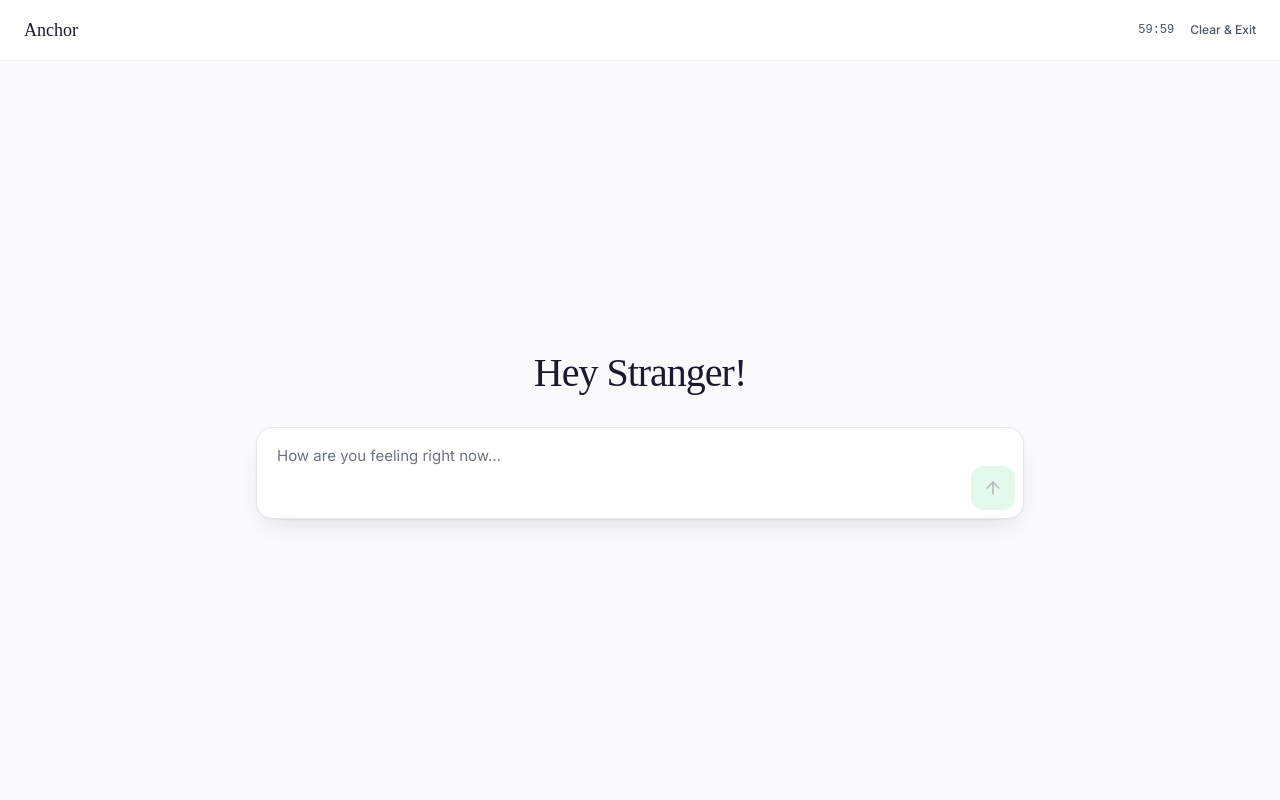
Chat – Widget deduplication › keeps one crisis card when every reply carries one
This screenshot has width=1280, height=800.
Type "I want to kill myself" into the text box with placeholder "How are you feeling right now..." at (614,472), box [265,436,963,510]
Then press Enter
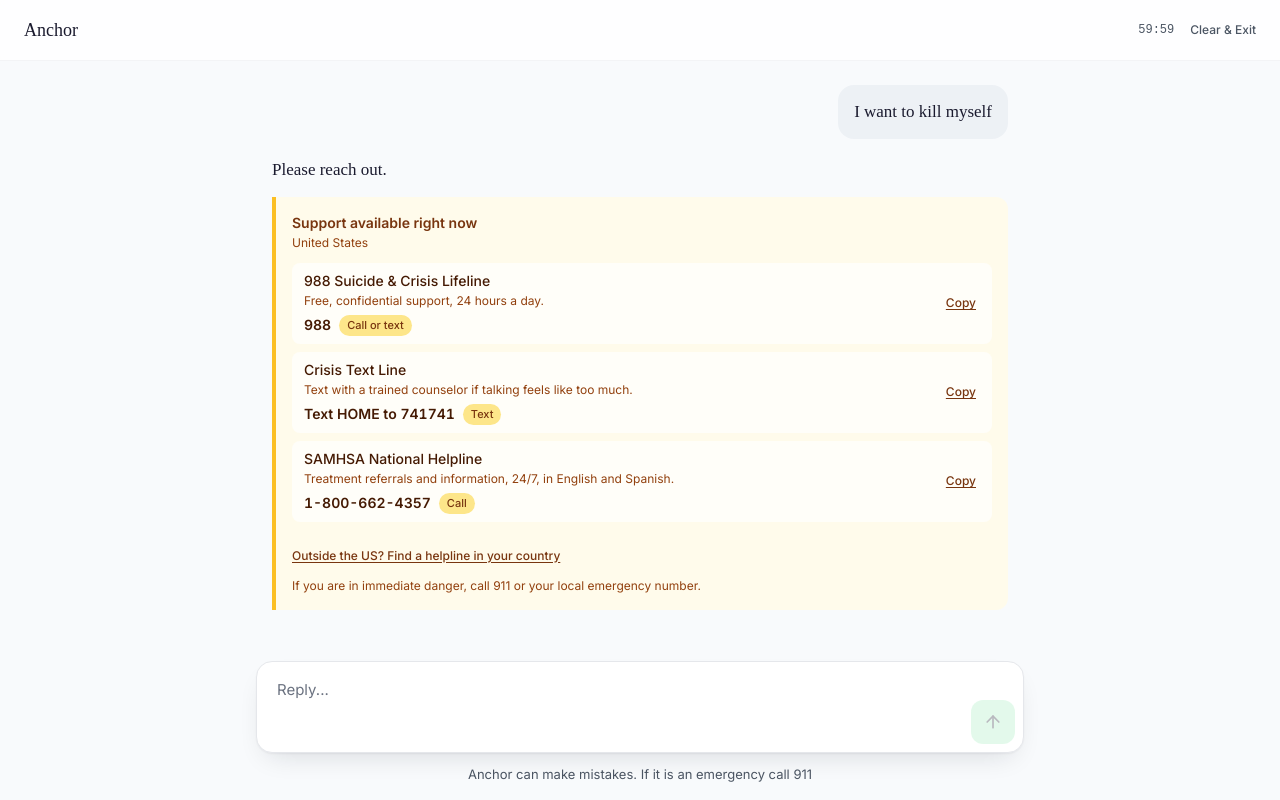
Expected: the element with test id "crisis-resource-card" is shown, [272,196,1008,610]
Type "still bad" into the text box with placeholder "Reply..." at (614,706), box [265,670,963,744]
Then press Enter
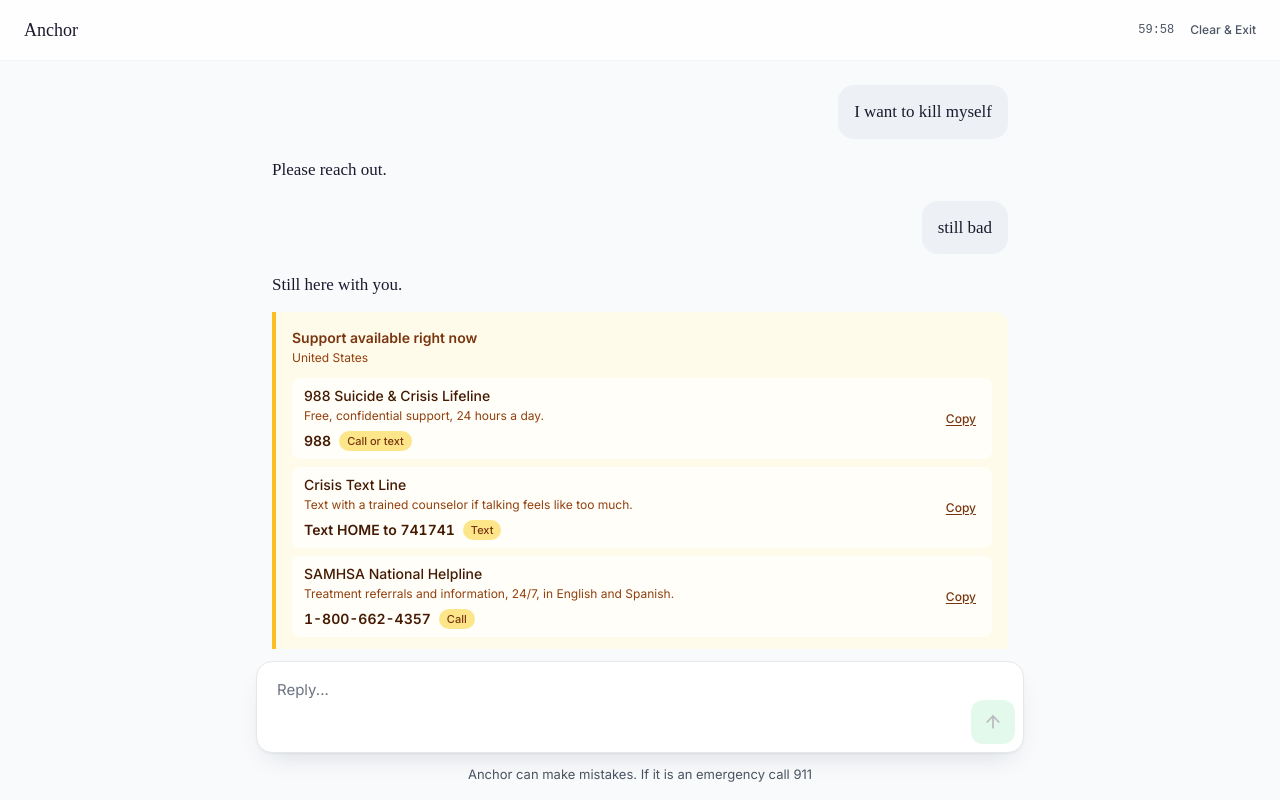
Expected: the number of elements with test id "crisis-resource-card" is 1, [272,312,1008,648]
Expected: the text "Still here with you." is shown, [272,275,402,294]
